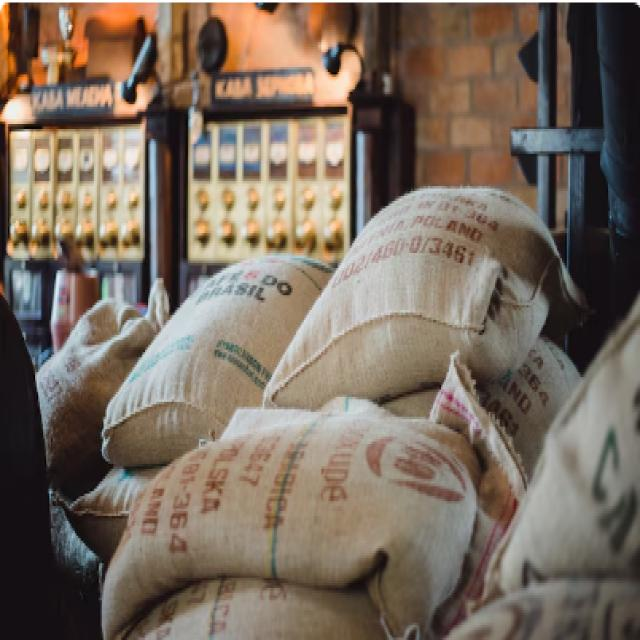KantongSemen: (99, 414, 475, 638), (268, 184, 591, 415), (103, 248, 336, 462)
